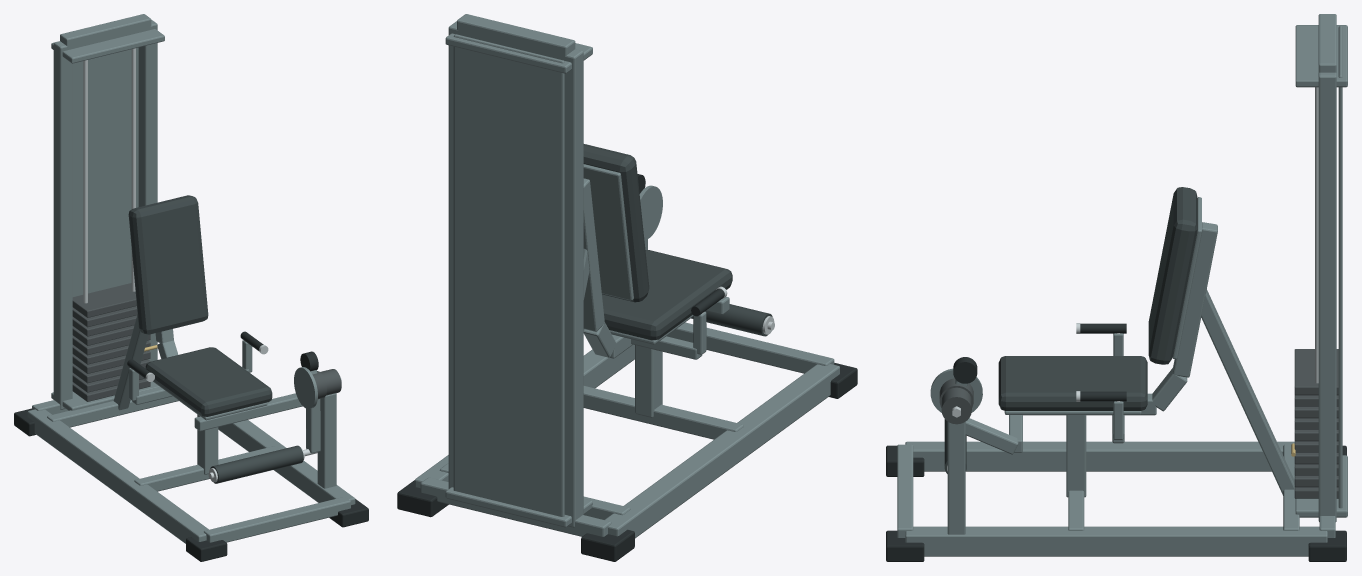
File: leg-extension-machine.v1.glb
3 renders of one model, left to right at view 1: azimuth 30°, elevation 25°; view 2: azimuth 150°, elevation 25°; view 3: azimuth 270°, elevation 25°, orthographic. The views are drawn at different scales.
Visible parts, largest first — view 1: Back pad backing, Back cushion, Moving stack plate, Handle end cap, Floor shoe, Roller pad, Cam arm; view 2: Back pad backing, Back cushion, Floor shoe, Roller pad, Cam arm; view 3: Back pad backing, Back cushion, Moving stack plate, Floor shoe, Handle end cap, Bearing housing, Cam arm.
Boxes of the visible parts, x1,y1,x2,y2 form: Back pad backing: (27, 14, 355, 543); Back cushion: (128, 195, 272, 416); Moving stack plate: (72, 283, 150, 401); Handle end cap: (83, 48, 341, 381); Floor shoe: (14, 331, 368, 561); Roller pad: (210, 445, 303, 483); Cam arm: (294, 367, 320, 453); Back pad backing: (415, 14, 839, 538); Back cushion: (583, 144, 732, 340); Floor shoe: (397, 289, 857, 561); Roller pad: (691, 304, 772, 336); Cam arm: (639, 185, 662, 249); Back pad backing: (897, 14, 1347, 556); Back cushion: (998, 187, 1197, 410); Moving stack plate: (1294, 349, 1338, 498); Floor shoe: (886, 323, 1346, 561); Handle end cap: (952, 87, 1318, 417); Bearing housing: (941, 387, 971, 424); Cam arm: (930, 368, 982, 412).
Bounding box in the file's own units: 1.19 × 2.59 × 2.3.
